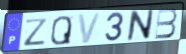3: (104, 11, 125, 43)
B: (154, 7, 179, 40)
N: (126, 8, 156, 42)
Q: (49, 15, 73, 47)
V: (77, 12, 103, 45)
Z: (24, 17, 50, 47)
